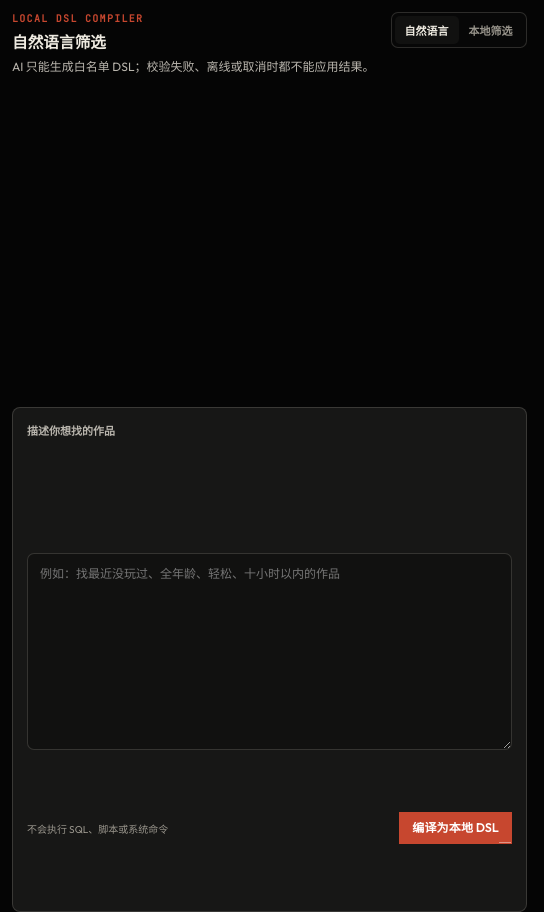
NaturalLanguageFilterCompiler › never exposes apply for an invalid AI result
The width and height of the screenshot is (544, 912).
In the text box labelled "描述你想找的作品": (269, 652) [27,553,512,750], type "删除所有资料"
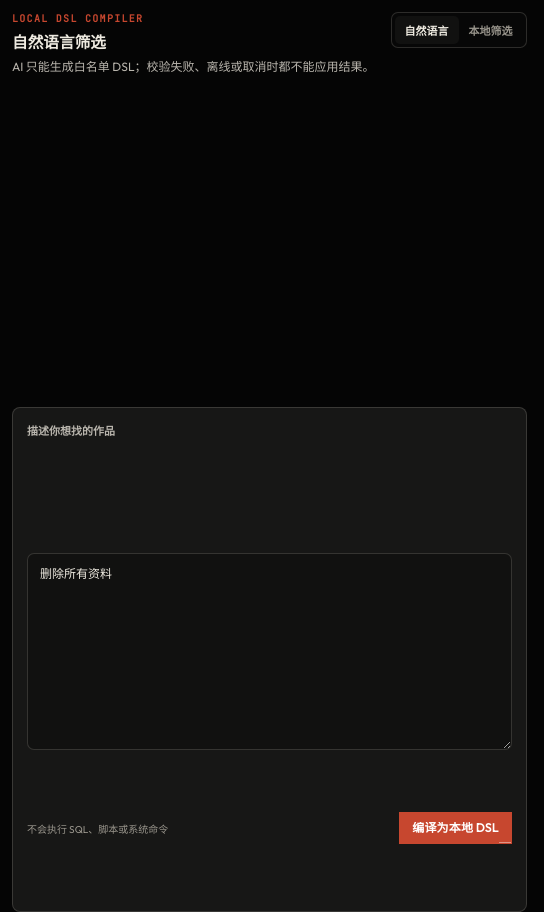
Click the button "编译为本地 DSL": (455, 828) [399,812,512,844]
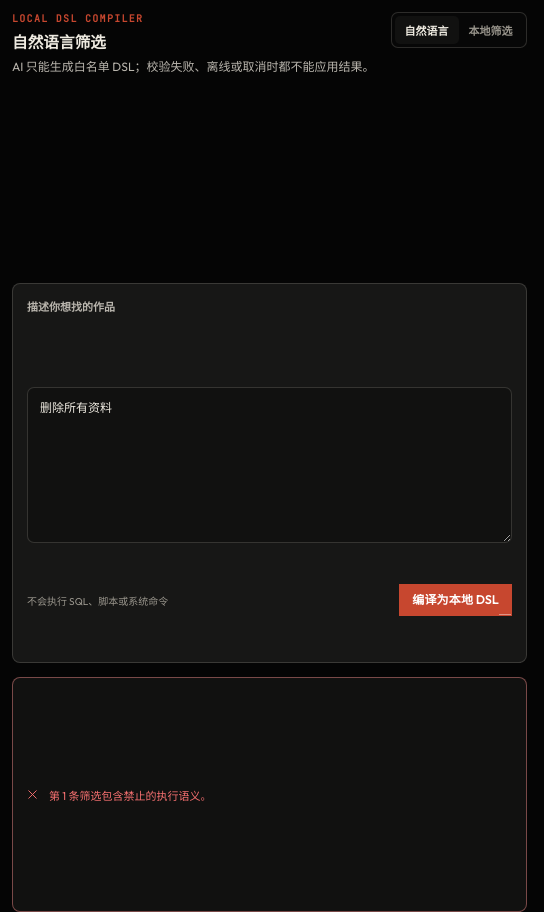
Now the message shows "禁止的执行语义", box [49,789,211,803]
